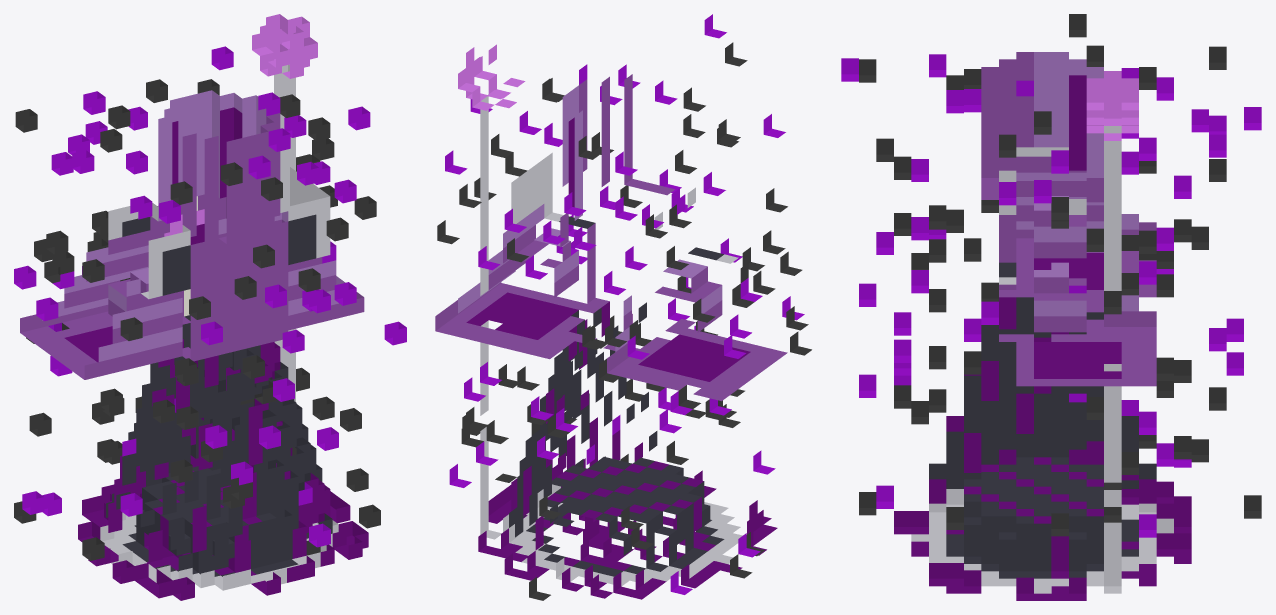
The model's file is eclipse.glb.
3 views of the same model, side by side, from view 1: azimuth 30°, elevation 25°; view 2: azimuth 150°, elevation 25°; view 3: azimuth 270°, elevation 25° (orthographic). The views are drawn at different scales.
Parts seen in each view (by area): view 1: Character; view 2: Character; view 3: Character.
Part boxes in pixels (x1,y1,x2,y2): Character: (14, 14, 406, 600); Character: (435, 14, 811, 600); Character: (841, 14, 1261, 600).
Size of the model in its own units: 1.14 by 1.66 by 1.24.
